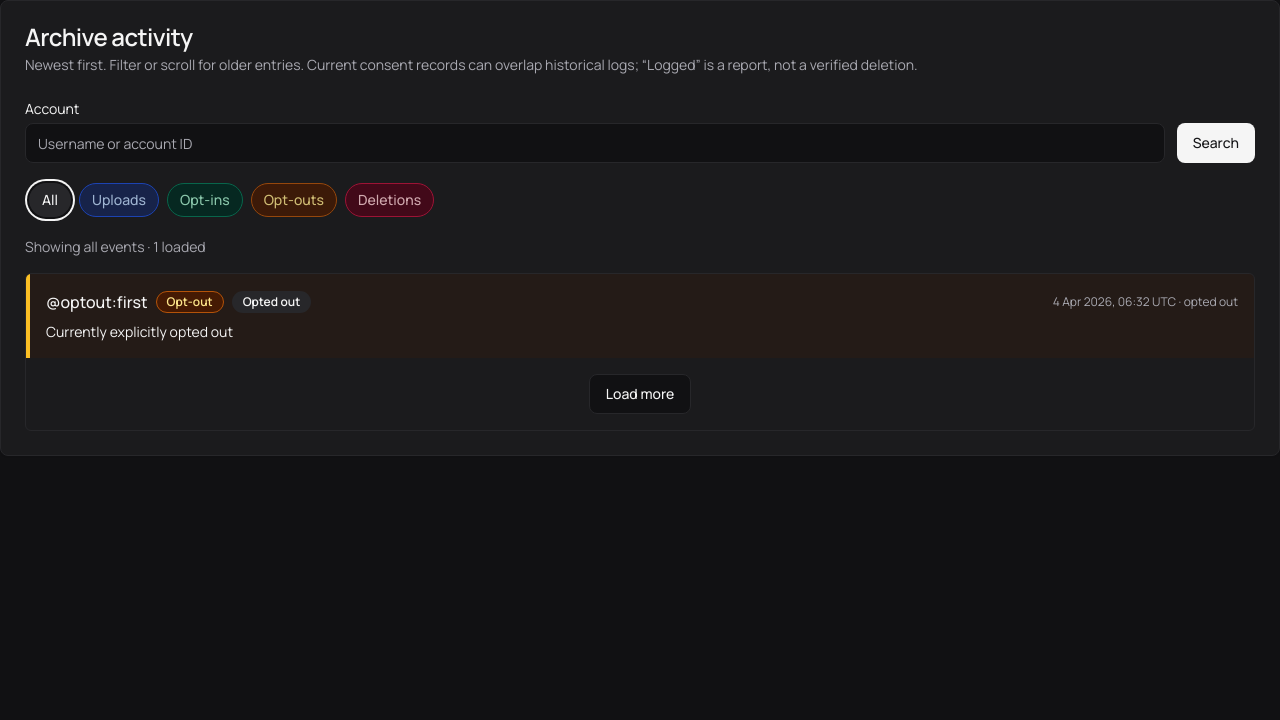
failed page keeps data and cursor, pauses auto-load, and retries on request
Click the button "Load more" at [640, 394], box [589,374,691,414]
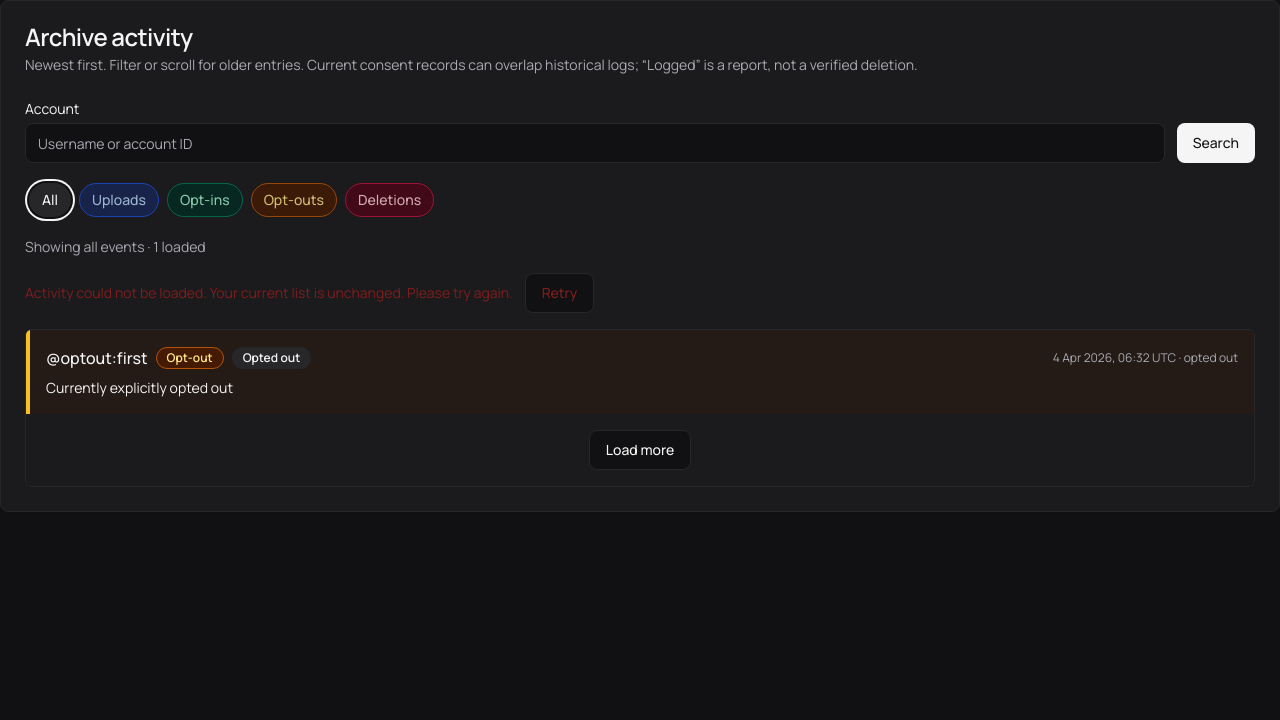
Expected: the text "@optout:first" is shown, [46,346,148,370]
Result: the message shows "current list is unchanged" at [25,283,513,302]
Click the button "Retry" at [559, 293], box [525,273,594,313]
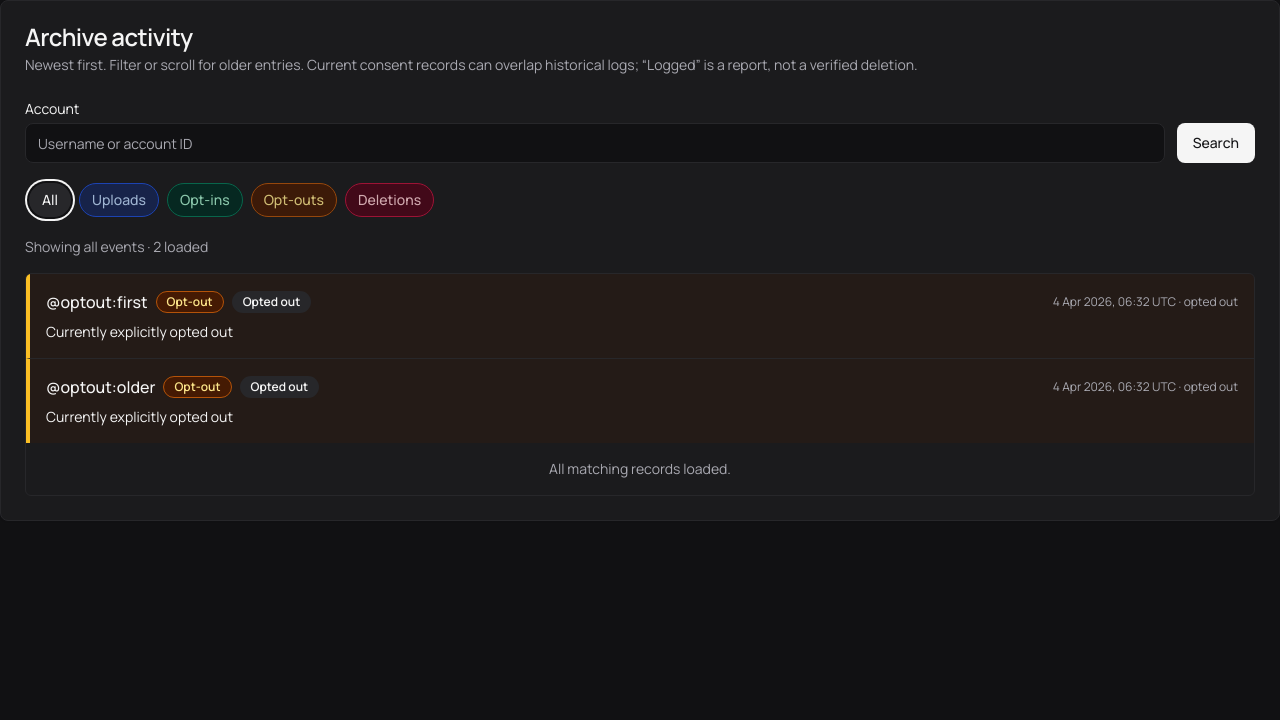
Result: the text "@optout:older" is shown at [46,375,156,399]
